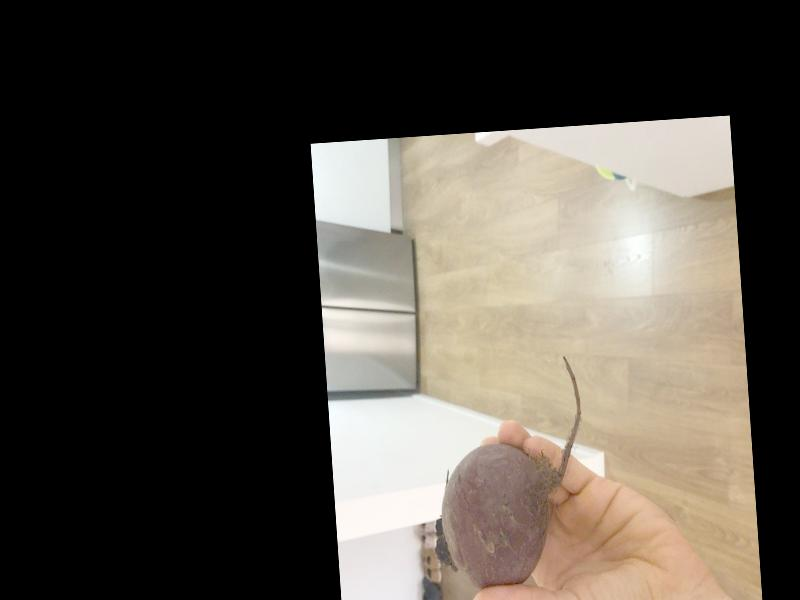Beet: (424, 355, 592, 591)
